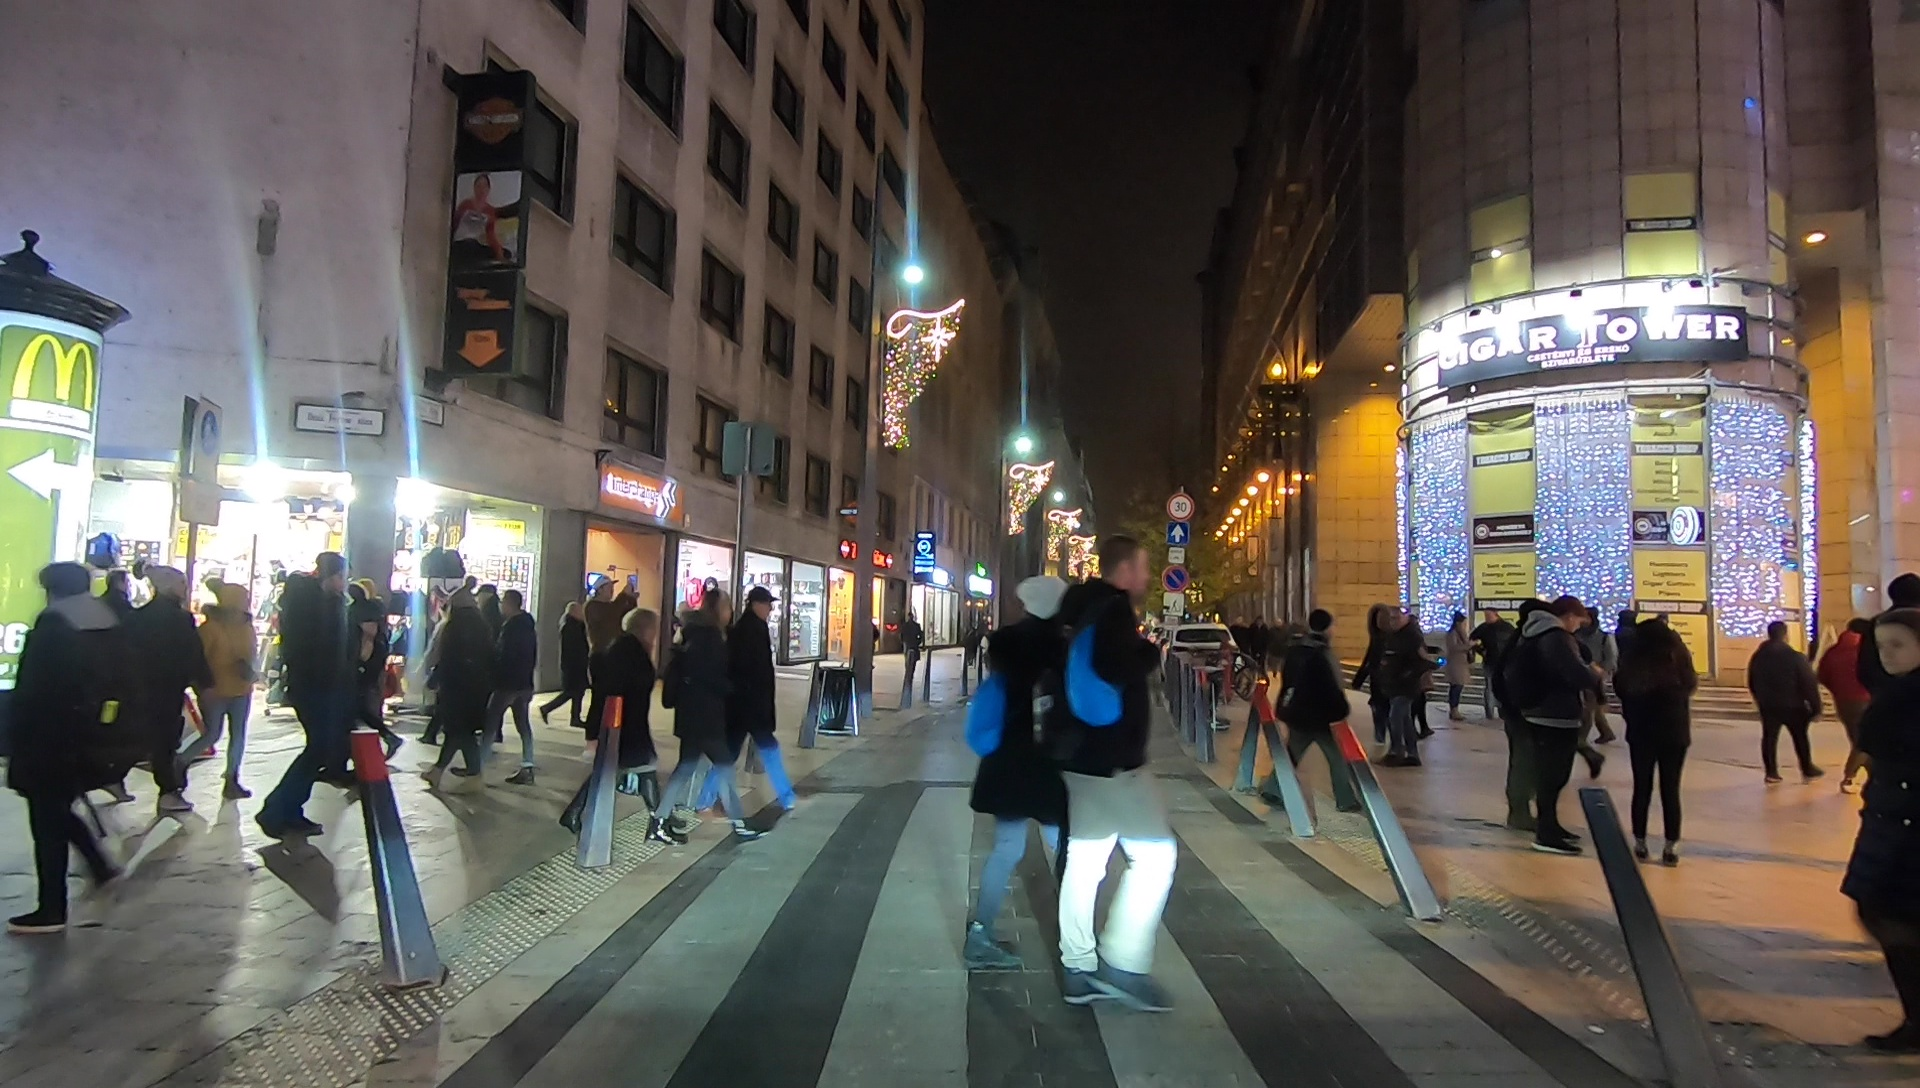person: (1051, 517, 1182, 1006), (962, 558, 1084, 969), (14, 563, 132, 921), (1858, 617, 1920, 1060), (695, 582, 802, 832), (560, 604, 669, 845), (654, 589, 747, 858), (1258, 591, 1365, 813), (271, 550, 343, 845), (1508, 593, 1582, 850), (1614, 611, 1688, 861), (199, 569, 254, 800), (134, 558, 184, 813), (1743, 617, 1819, 784), (341, 574, 395, 780), (428, 589, 488, 769), (493, 578, 541, 773), (588, 563, 636, 732), (1384, 600, 1432, 769), (1821, 617, 1867, 789), (541, 597, 588, 737), (1360, 599, 1395, 752), (1476, 602, 1514, 724), (1439, 610, 1471, 724)
